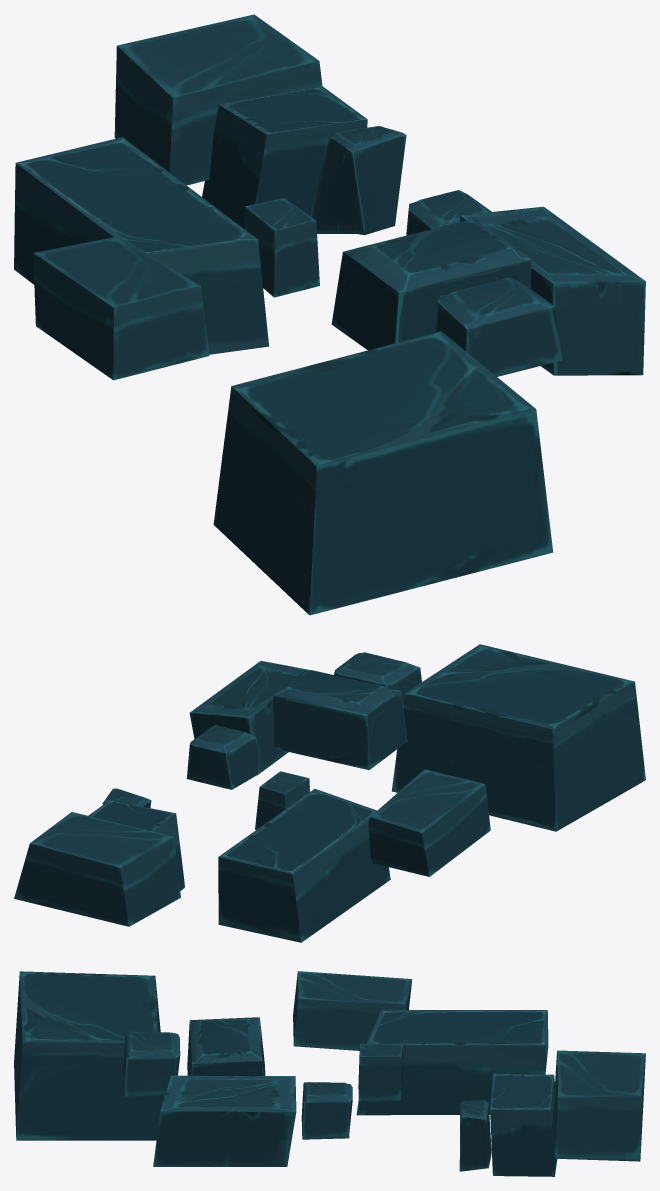
Rendered from bricks_missing_pieces.fbx.
3 views of the same model, one above another, from view 1: azimuth 30°, elevation 25°; view 2: azimuth 150°, elevation 25°; view 3: azimuth 270°, elevation 25° (orthographic). The views are drawn at different scales.
Parts seen in each view (by area): view 1: bricks_broken_up; view 2: bricks_broken_up; view 3: bricks_broken_up.
Part boxes in pixels (bbox=[...]): bricks_broken_up: bbox=[14, 14, 645, 615]; bricks_broken_up: bbox=[14, 644, 645, 942]; bricks_broken_up: bbox=[14, 971, 645, 1176].
Bounding box in the file's own units: 1.04 × 0.4063 × 1.92.
